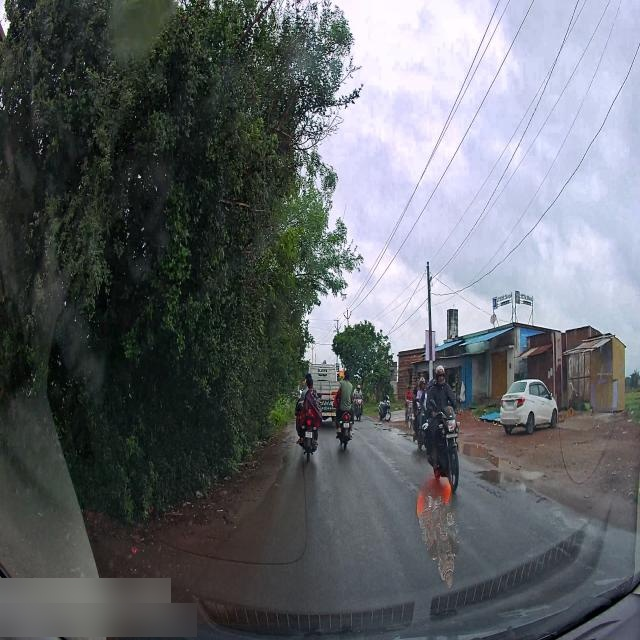pothole: (478, 469, 542, 484), (464, 440, 489, 462), (373, 422, 393, 433)
